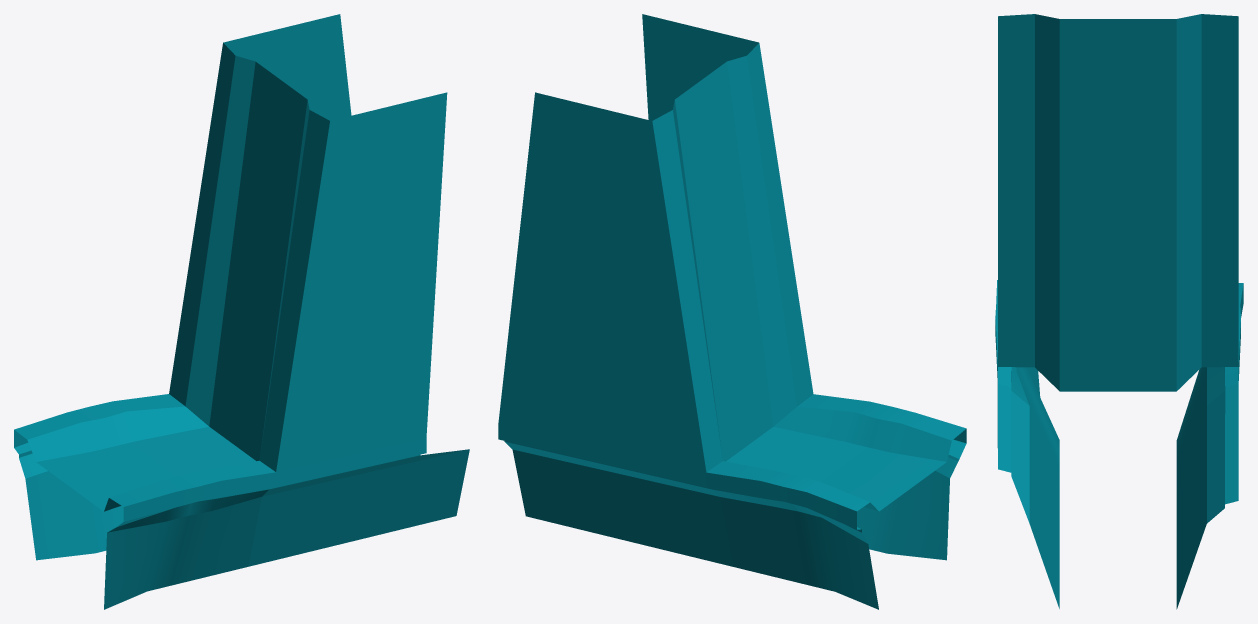
Rendered from Wall_test.fbx.
The picture shows the model from 3 angles, left to right: view 1: azimuth 30°, elevation 25°; view 2: azimuth 150°, elevation 25°; view 3: azimuth 270°, elevation 25°; orthographic projection. The views are drawn at different scales.
Parts seen in each view (by area): view 1: Sml_Modul1; view 2: Sml_Modul1; view 3: Sml_Modul1.
Boxes of the visible parts, x1,y1,x2,y2 form: Sml_Modul1: [14, 14, 469, 609]; Sml_Modul1: [498, 14, 966, 609]; Sml_Modul1: [995, 14, 1243, 609].
Bounding box in the file's own units: 2.62 × 3.14 × 1.39.
